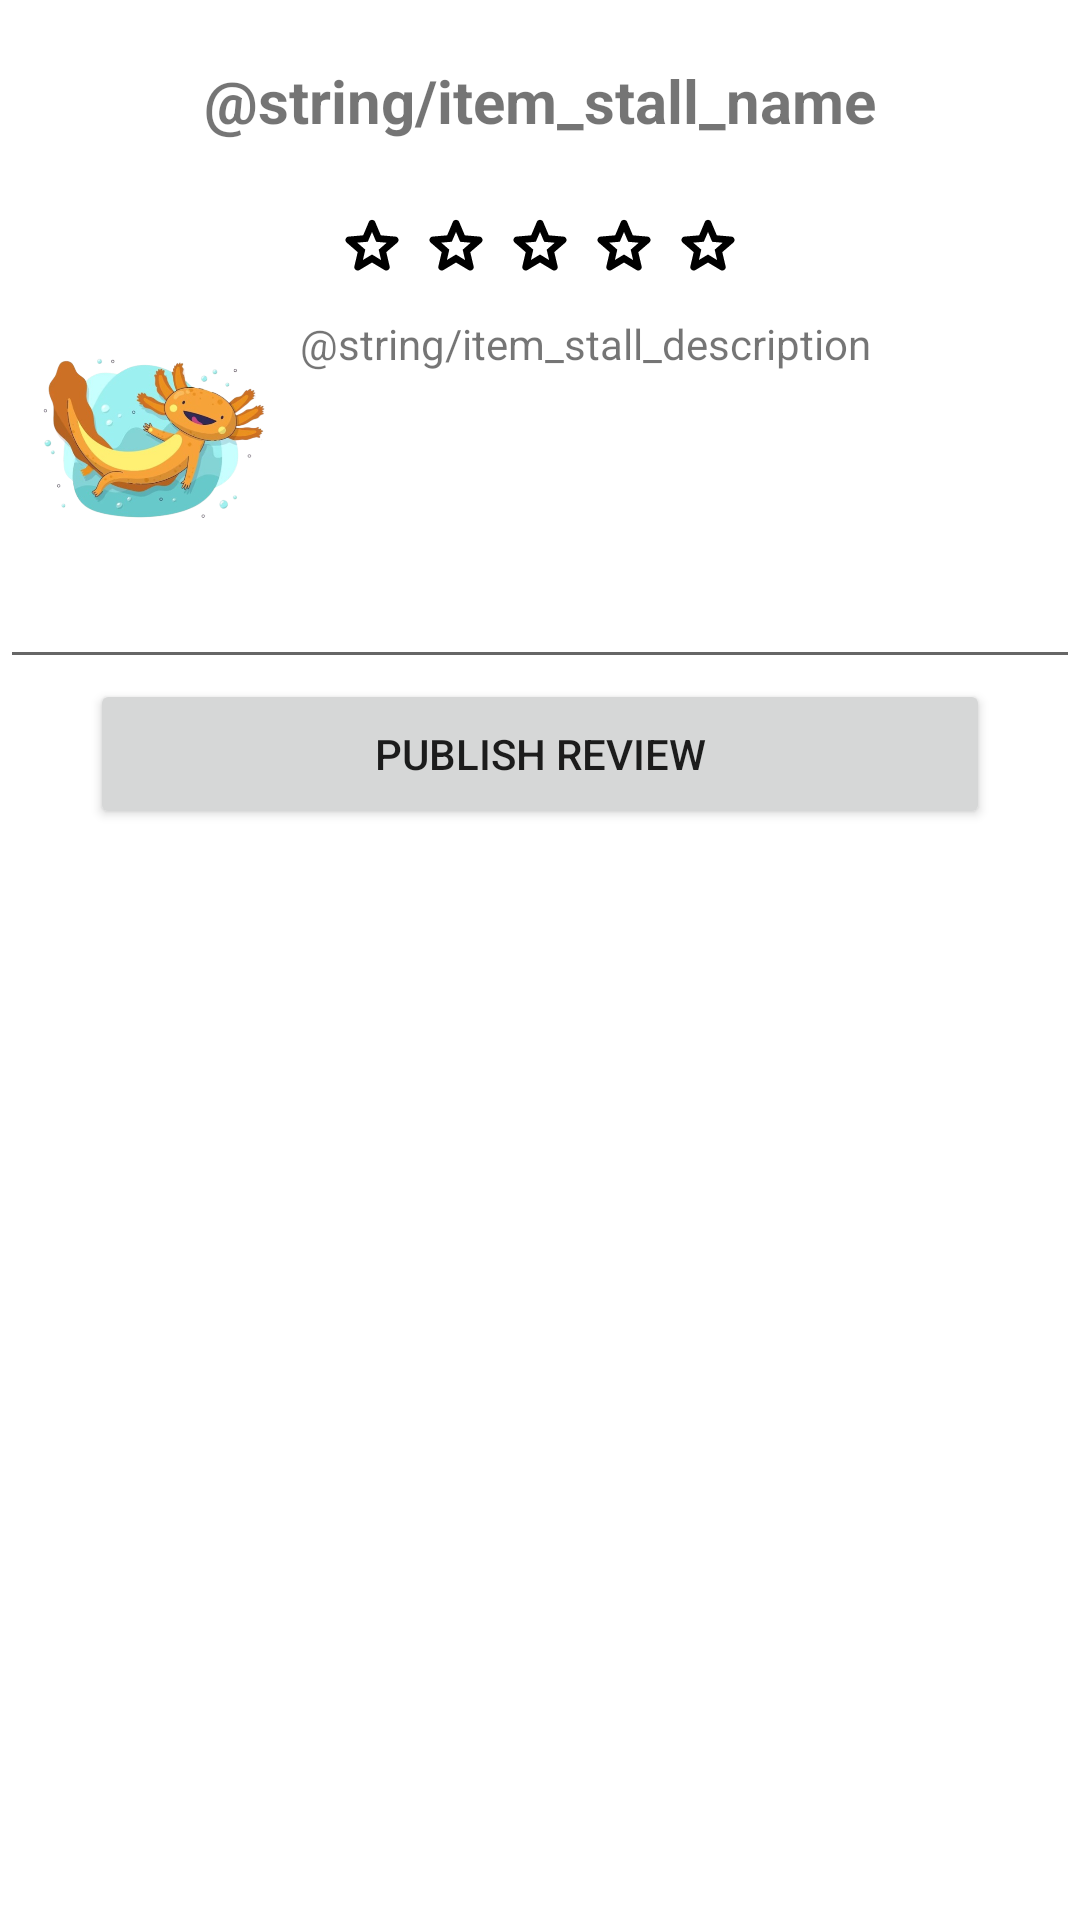

Named icons in this screenshot (1080*1920) and their centers, [x,y]:
star: [372,245], [456,245], [540,245], [624,245], [708,245]
